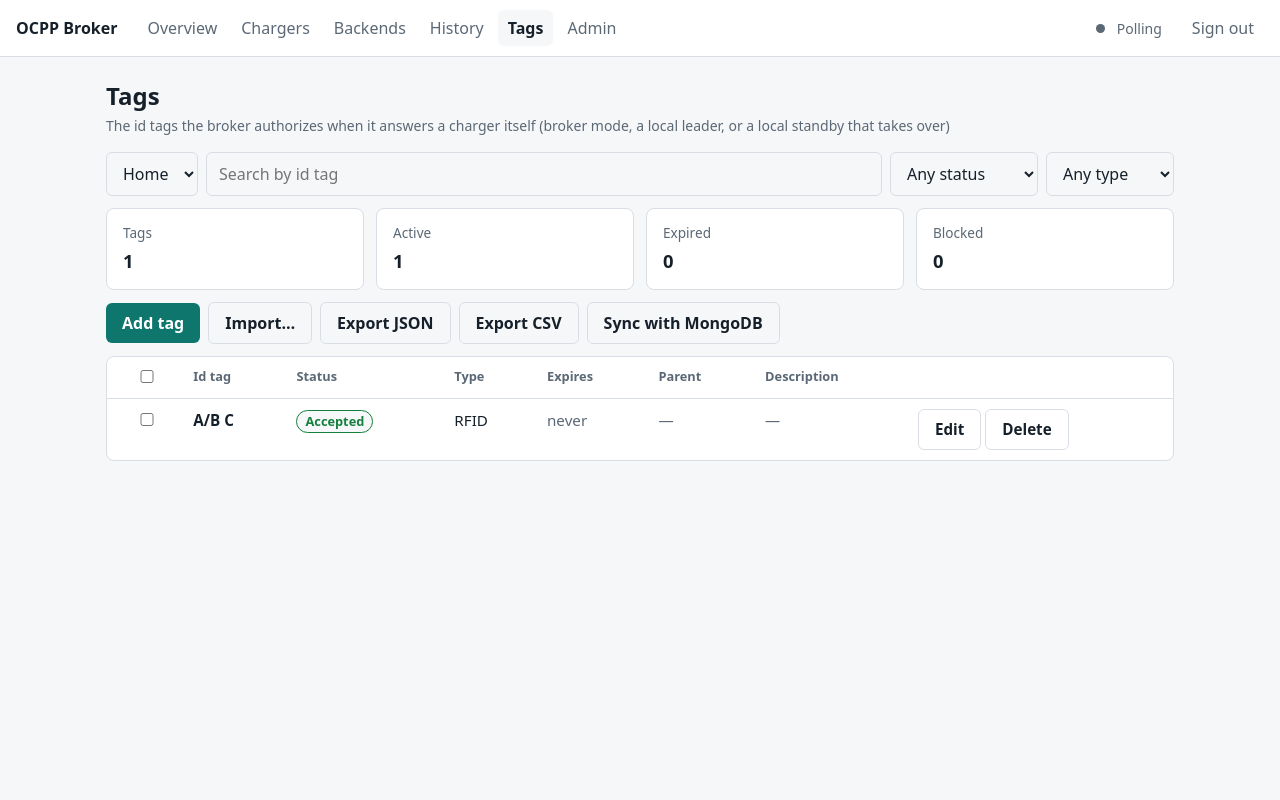
Test case: deleting and bulk changes › encodes the id tag in the address
The width and height of the screenshot is (1280, 800).
Check: the heading "Tags" is shown, box [106, 79, 160, 112]
Click the button with aria-label "Delete A/B C" at (1027, 430), box [985, 409, 1069, 450]
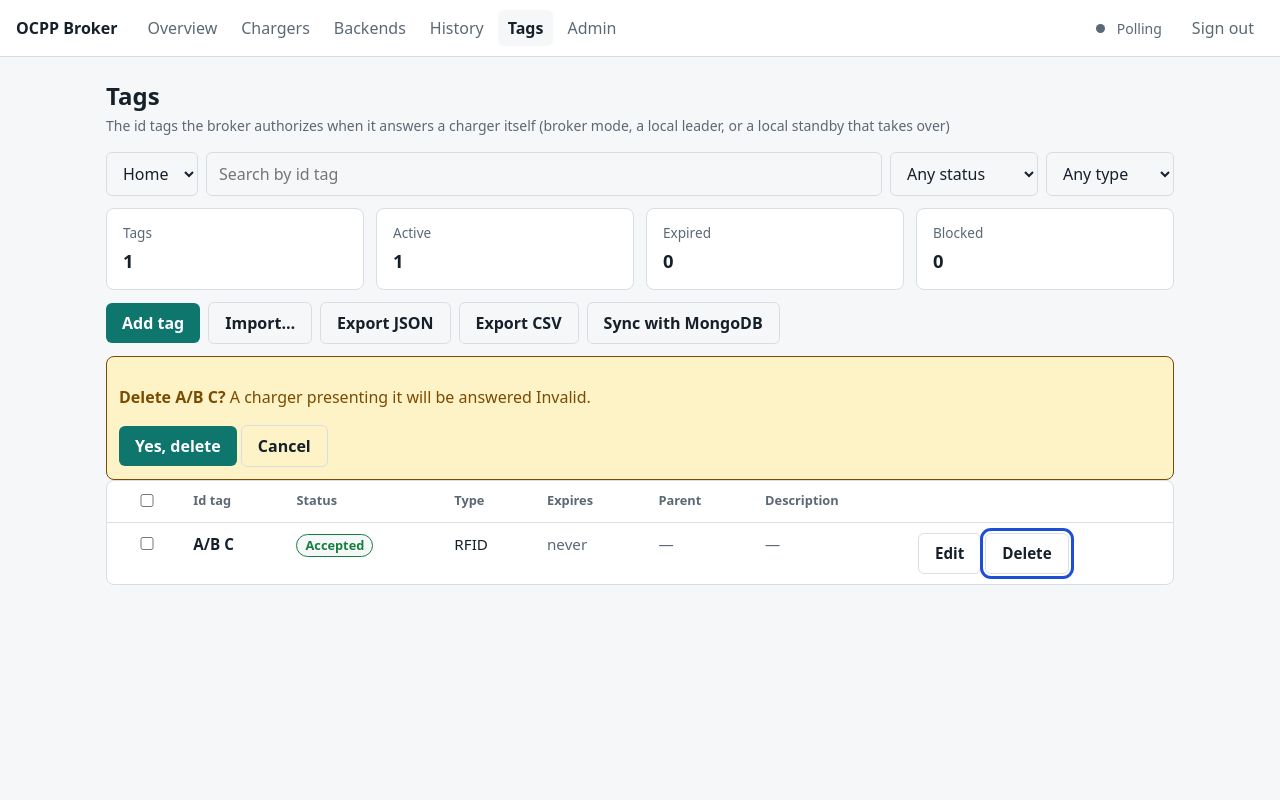
Click the button "Yes, delete" at (178, 446), box [119, 426, 237, 466]
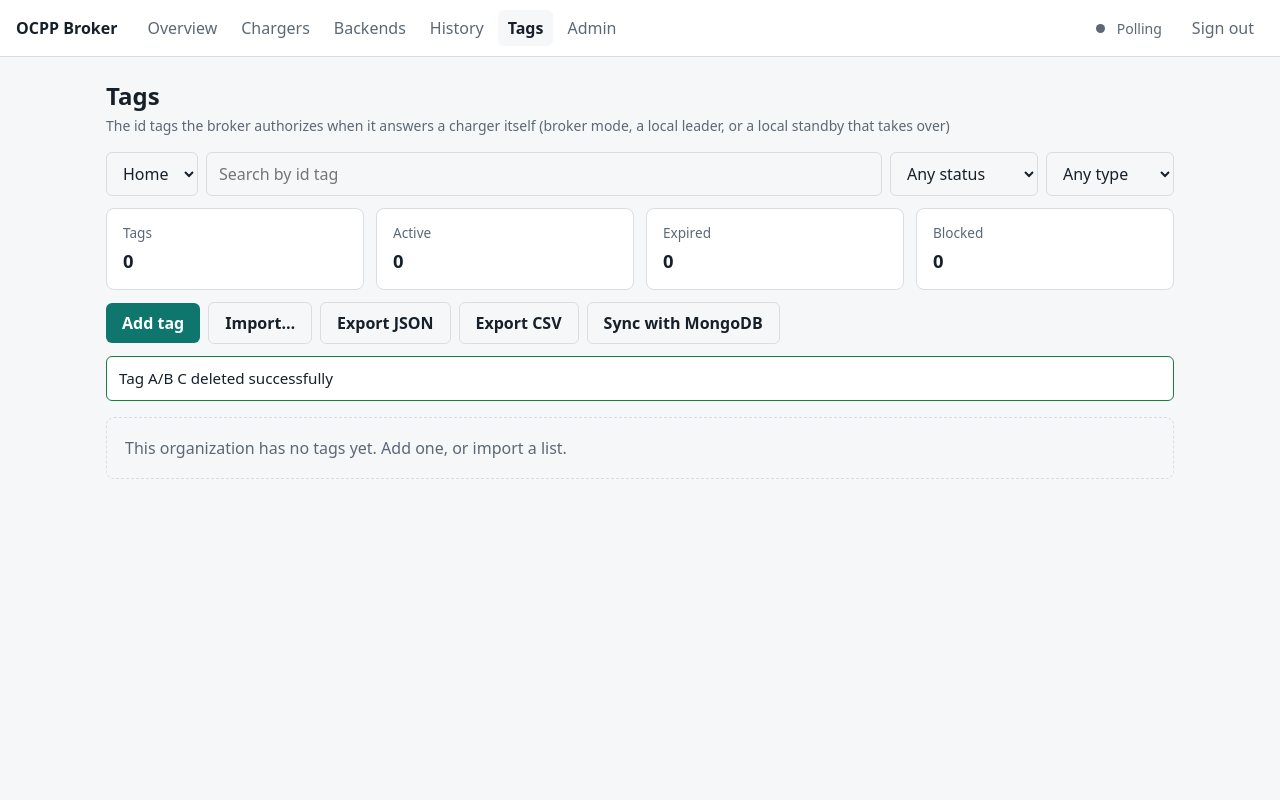
Check: the text "Tag A/B C deleted successfully" is shown, box [106, 356, 1174, 401]
